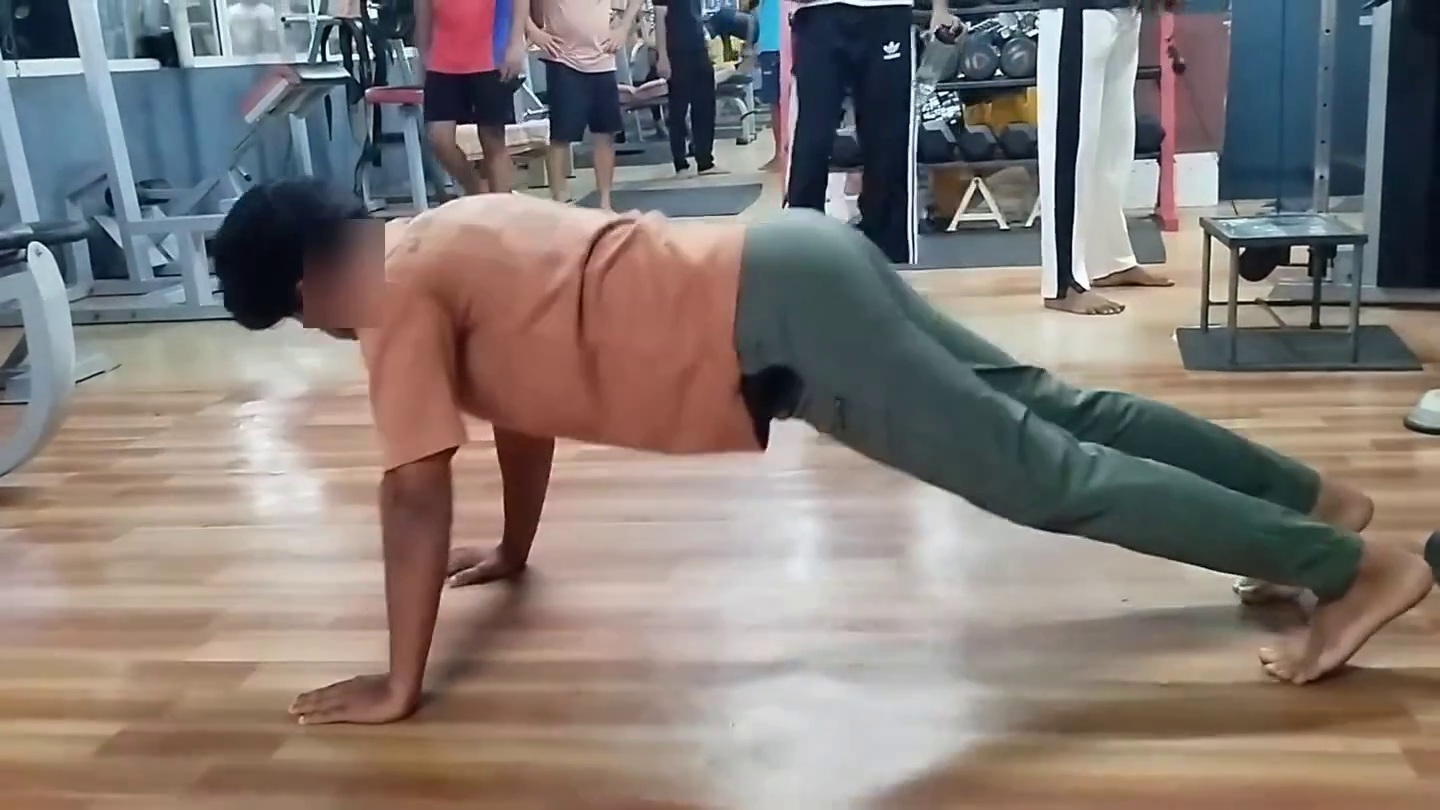push_up: (182, 172, 1440, 810)
